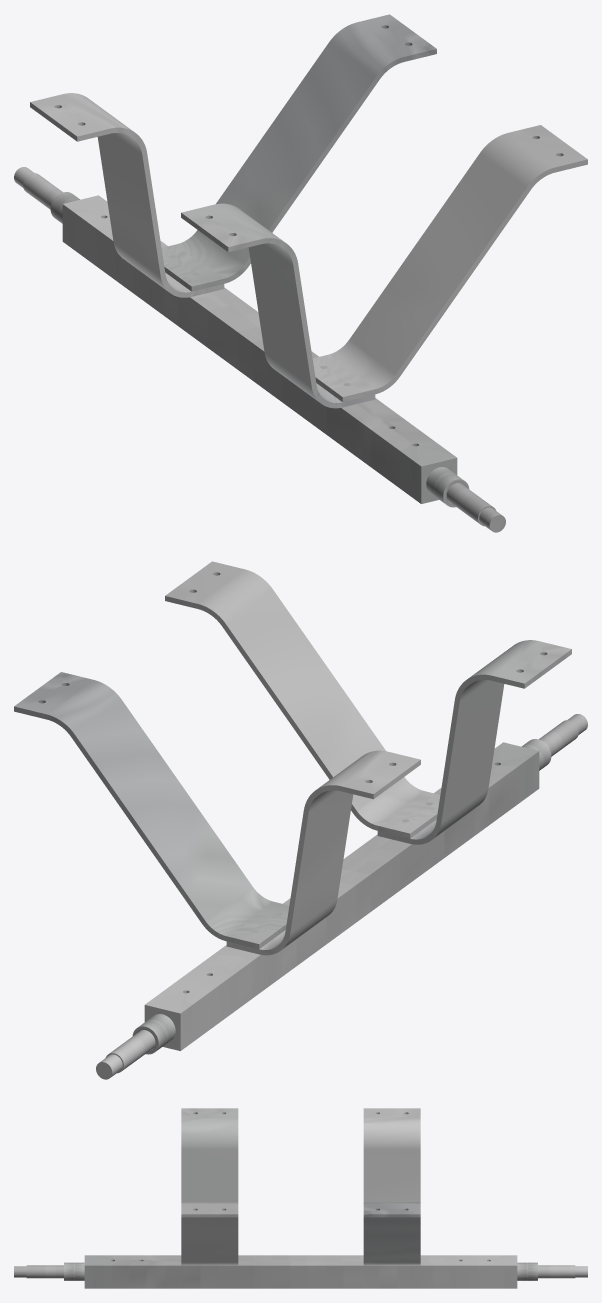
The model's file is truck.dae.
3 renders of one model, top to bottom at view 1: azimuth 30°, elevation 25°; view 2: azimuth 150°, elevation 25°; view 3: azimuth 270°, elevation 25°, orthographic. The views are drawn at different scales.
Parts seen in each view (by area): view 1: Truck; view 2: Truck; view 3: Truck.
Part boxes in pixels (<box>): Truck: <box>14,14,587,532</box>; Truck: <box>14,561,587,1079</box>; Truck: <box>14,1108,587,1288</box>.
Bounding box in the file's own units: 0.22 × 0.504 × 0.132.
Materials: 1 (1 with a texture image).
